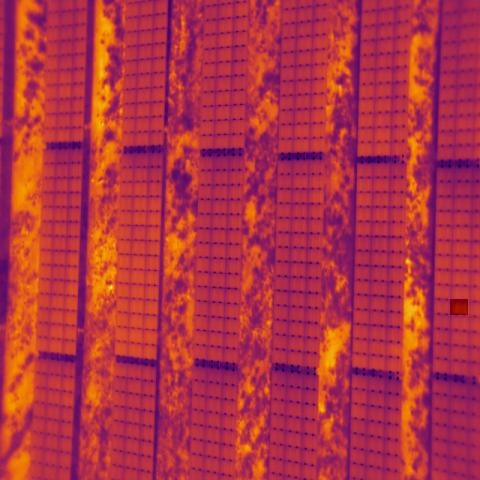fault: (450, 299, 468, 315)
